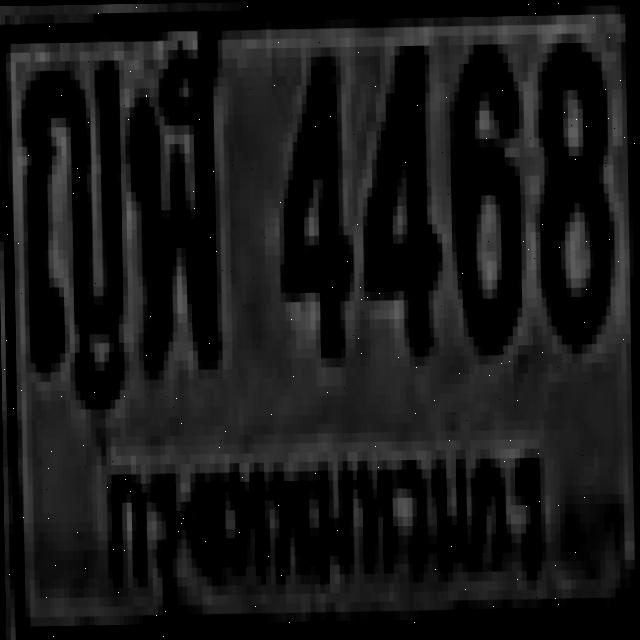22YorYing: (18, 51, 122, 363)
4: (360, 35, 434, 348), (276, 46, 345, 348)
51LorChula: (124, 25, 222, 366)
6: (443, 29, 517, 341)
8: (532, 33, 606, 334)
Bangkok: (91, 430, 562, 610)
